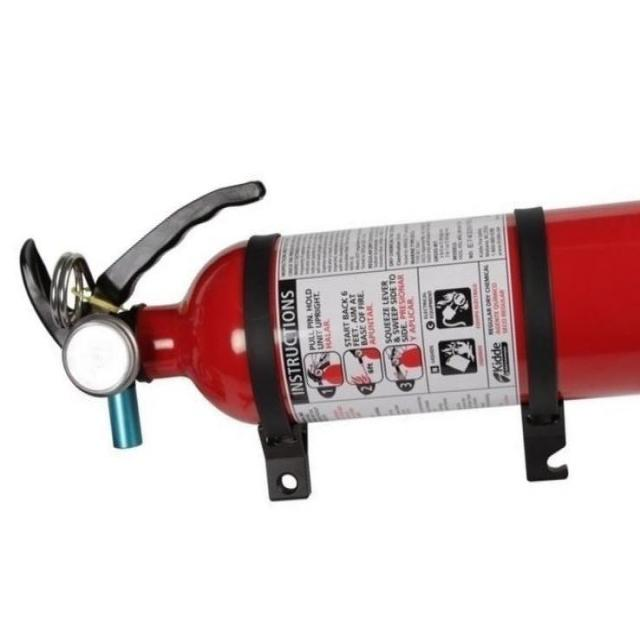fire_extinguisher: (14, 176, 639, 454)
